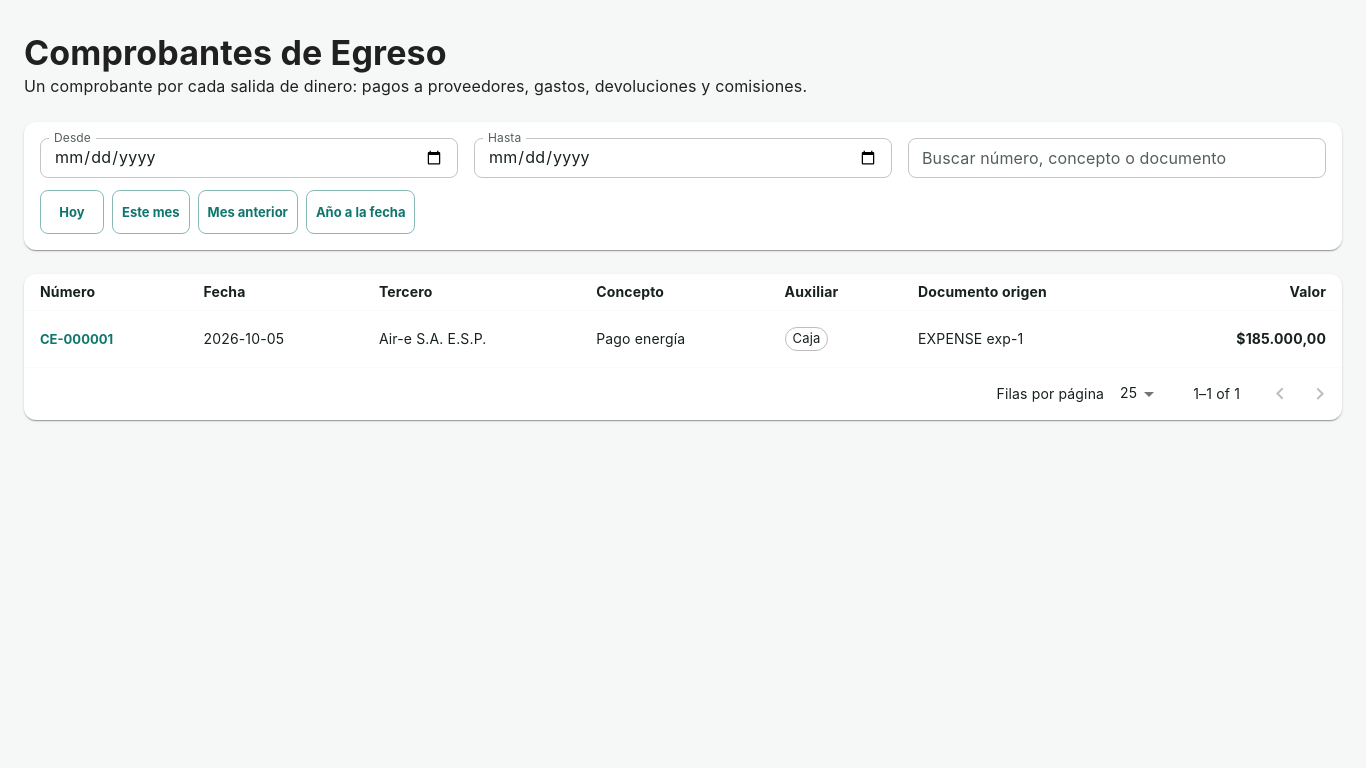
Recibos de caja y comprobantes de egreso › lista el comprobante con su tercero y muestra el detalle imprimible
The width and height of the screenshot is (1366, 768).
Expected: the heading "Comprobantes de Egreso" is shown, [24,32,447,73]
Expected: the text "Air-e S.A. E.S.P." is shown, [363,310,580,368]
Click the button "CE-000001" at {"x": 76, "y": 339}, box [40,317,113,361]
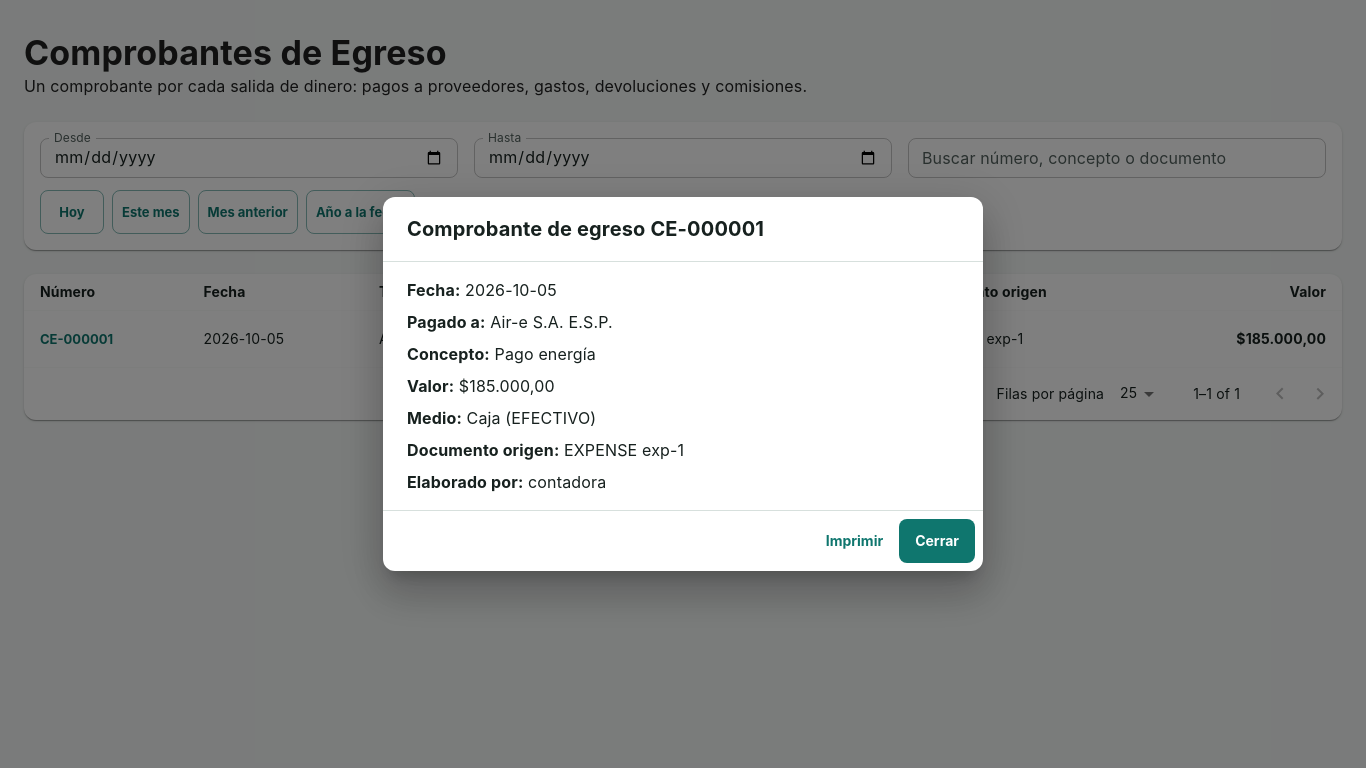
Expected: the heading "Comprobante de egreso CE-000001" is shown, [407,217,764,241]
Expected: the text "Pagado a:" is shown, [407,312,486,332]
Expected: the button "Imprimir" is shown, [818,519,891,563]
